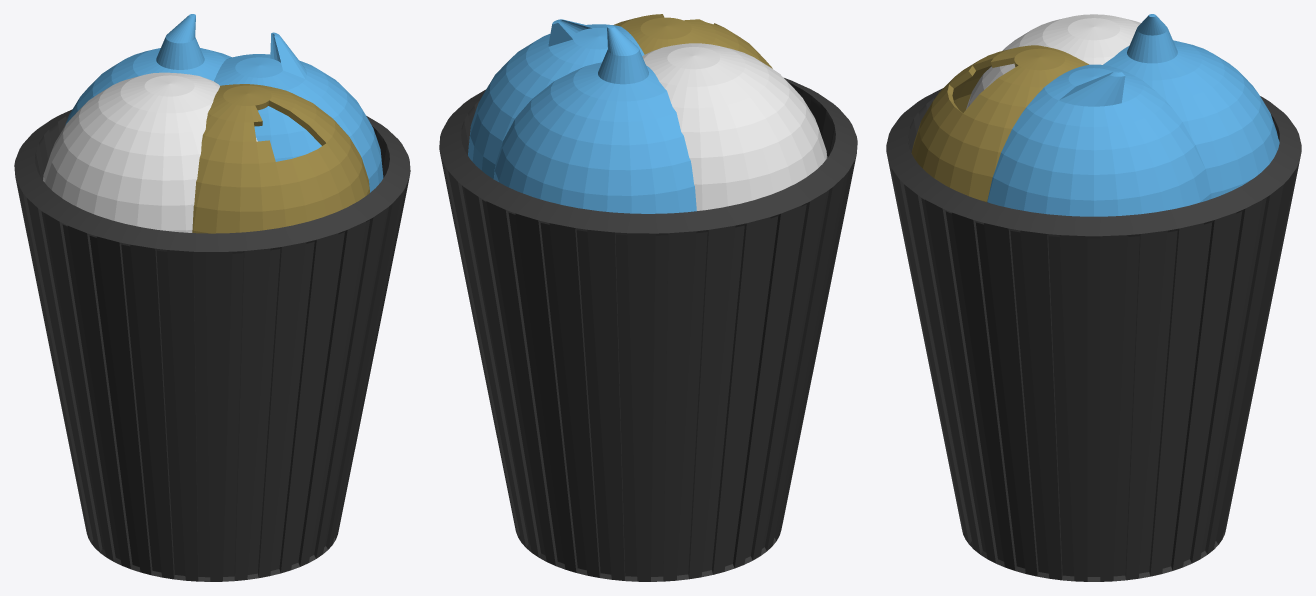
File: rubbish.fbx
3 views of the same model, side by side, from view 1: azimuth 30°, elevation 25°; view 2: azimuth 150°, elevation 25°; view 3: azimuth 270°, elevation 25° (orthographic). The views are drawn at different scales.
Parts seen in each view (by area): view 1: Cylinder, Sphere, Sphere.002, Sphere.001, Sphere.003; view 2: Cylinder, Sphere.003, Sphere, Sphere.001, Sphere.002; view 3: Cylinder, Sphere.001, Sphere.003, Sphere.002, Sphere.
Boxes of the visible parts, box(x1,y1,x2,y2) form: Cylinder: box(14, 109, 410, 581); Sphere: box(43, 72, 257, 232); Sphere.002: box(192, 84, 369, 233); Sphere.001: box(214, 32, 383, 192); Sphere.003: box(65, 14, 231, 125); Cylinder: box(439, 78, 857, 581); Sphere.003: box(493, 25, 696, 213); Sphere: box(642, 43, 827, 210); Sphere.001: box(468, 19, 644, 178); Sphere.002: box(613, 14, 772, 68); Cylinder: box(886, 88, 1301, 581); Sphere.001: box(987, 64, 1211, 216); Sphere.003: box(1103, 14, 1279, 198); Sphere.002: box(911, 45, 1088, 202); Sphere: box(966, 14, 1140, 109).
Bounding box in the file's own units: 225 × 308 × 225.
